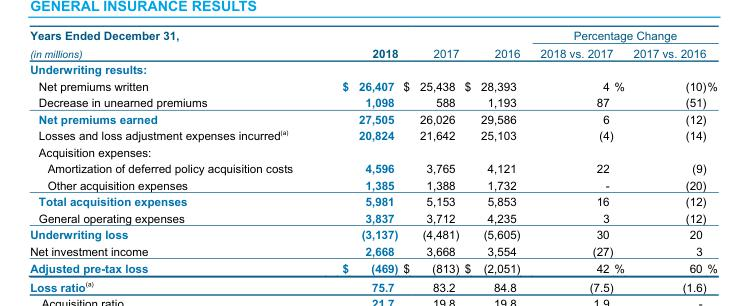table: (29, 28, 716, 274)
table column: (29, 28, 316, 274), (529, 28, 628, 274), (628, 28, 716, 274), (316, 28, 400, 274), (461, 28, 529, 274), (400, 28, 461, 274)
table column header: (29, 28, 716, 61)
table projected row header: (29, 61, 716, 77), (29, 143, 716, 159)
table row: (29, 44, 716, 61), (29, 77, 716, 94), (29, 126, 716, 143), (29, 159, 716, 176), (29, 192, 716, 209), (29, 225, 716, 242), (29, 242, 716, 259), (29, 28, 716, 44), (29, 61, 716, 77), (29, 94, 716, 110), (29, 110, 716, 126), (29, 143, 716, 159), (29, 176, 716, 192), (29, 209, 716, 225), (29, 259, 716, 274)
table spanning cell: (29, 28, 316, 61), (529, 28, 716, 44), (316, 28, 400, 61), (461, 28, 529, 61), (400, 28, 461, 61)
